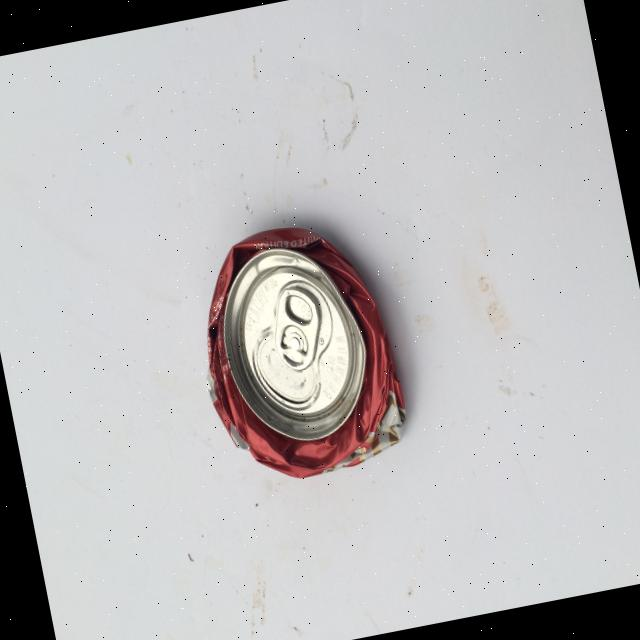metal: (178, 209, 416, 494)
